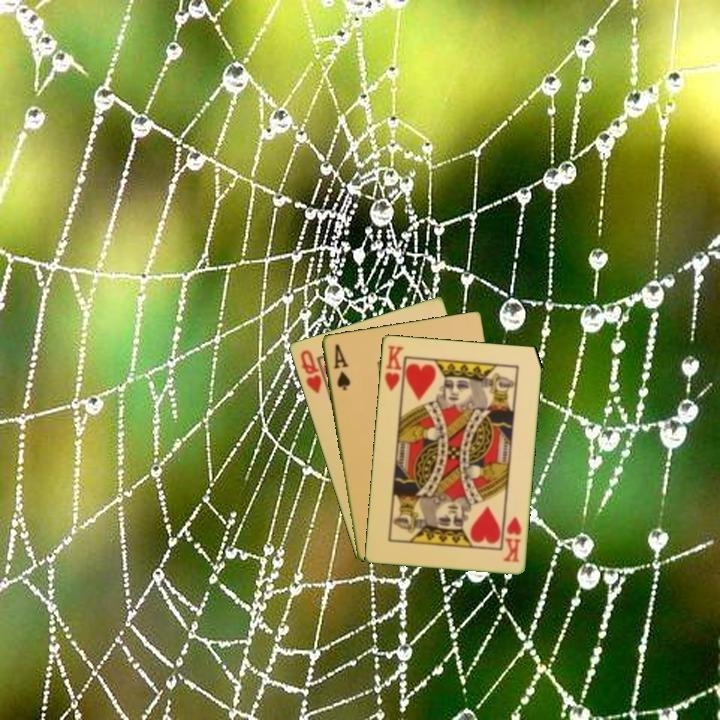As: (329, 340, 353, 393)
Kh: (381, 341, 406, 398), (499, 513, 524, 565)
Qh: (296, 346, 324, 396)
